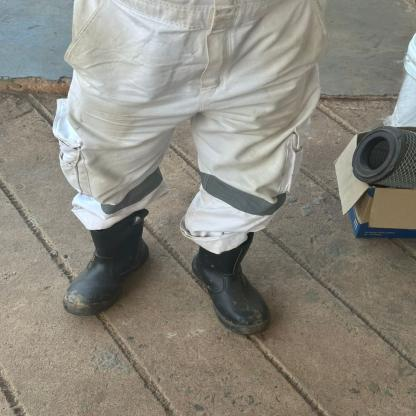bota: (60, 206, 146, 320), (187, 230, 278, 335)
